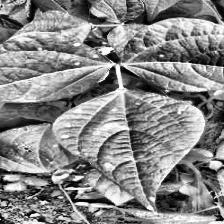Bean Rust: (57, 89, 206, 214), (0, 30, 115, 102), (120, 16, 224, 93)
